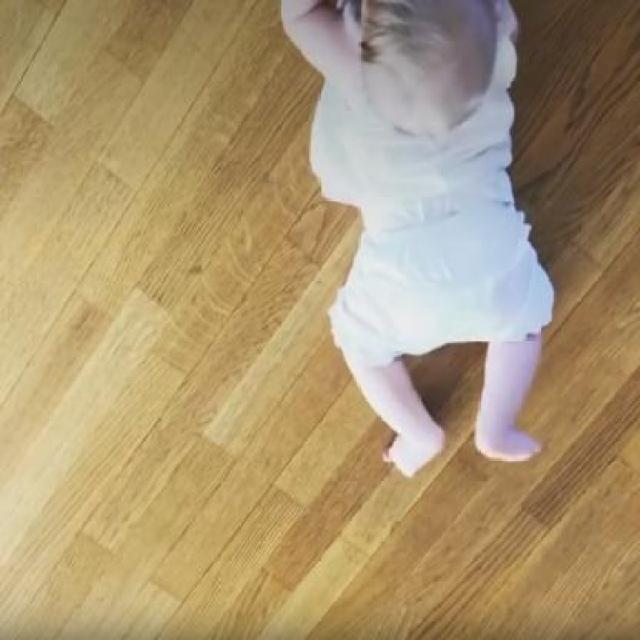baby: (278, 1, 554, 482)
